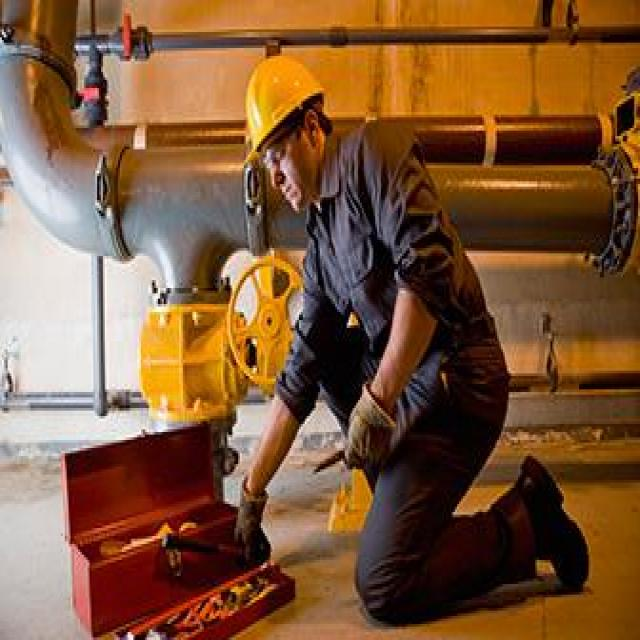Safety-Helmet: (236, 46, 332, 166)
